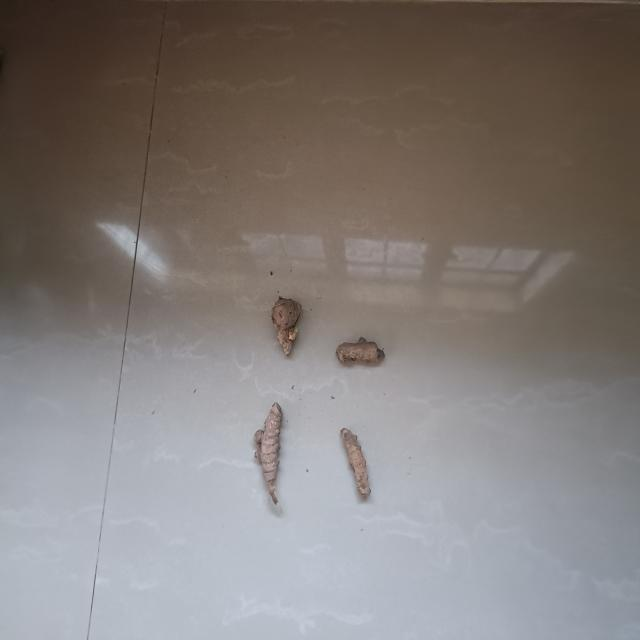ginger: (253, 399, 286, 508), (268, 290, 307, 360), (341, 426, 375, 503), (334, 336, 388, 369)
